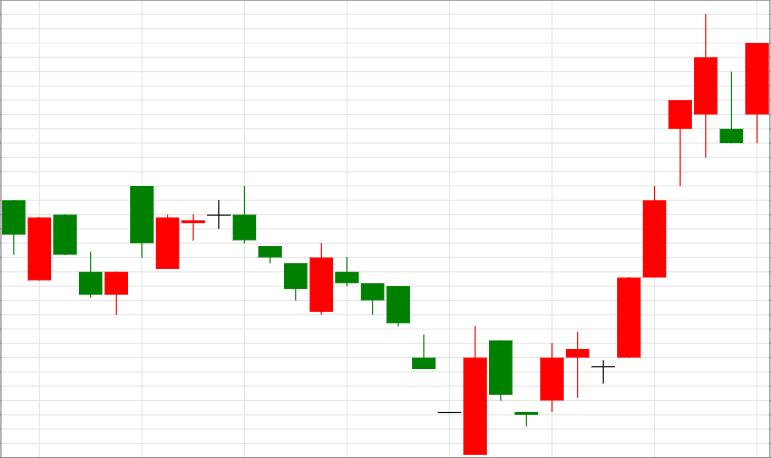bullish_engulfing_rise: (208, 186, 333, 316)
hanging_man_fall: (541, 101, 692, 412)
